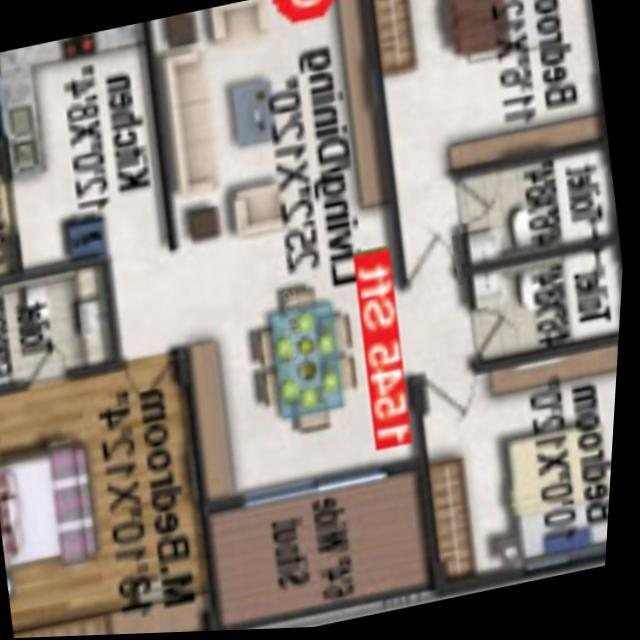Bedroom: (408, 339, 623, 606), (360, 0, 610, 195)
Bedroom with Toilet: (0, 343, 231, 639)
Dining: (242, 276, 369, 449)
Kitchen: (0, 20, 179, 279)
Living: (143, 0, 397, 260)
Toilet: (449, 138, 623, 282), (467, 240, 626, 383), (0, 245, 128, 392)
